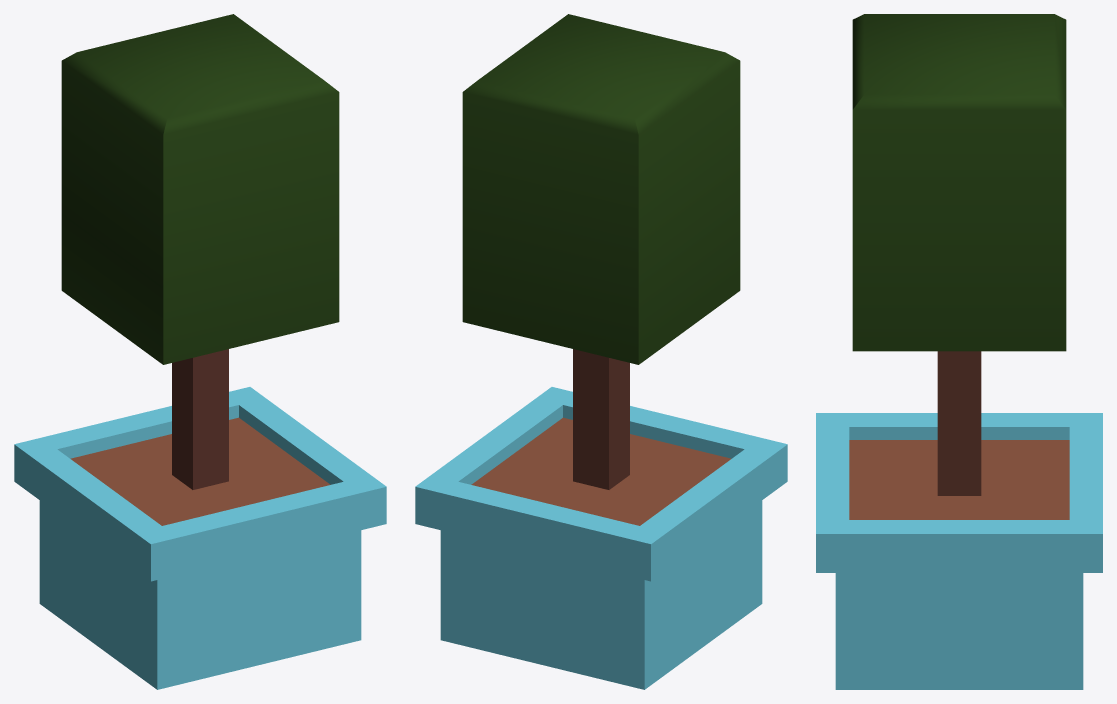
The picture shows the model from 3 angles, left to right: view 1: azimuth 30°, elevation 25°; view 2: azimuth 150°, elevation 25°; view 3: azimuth 270°, elevation 25°; orthographic projection. The views are drawn at different scales.
Parts seen in each view (by area): view 1: Plane.003; view 2: Plane.003; view 3: Plane.003.
Boxes of the visible parts, <box> form: Plane.003: <box>14,14,386,689</box>; Plane.003: <box>415,14,787,689</box>; Plane.003: <box>816,14,1102,689</box>.
Bounding box in the file's own units: 171 × 384 × 171.
